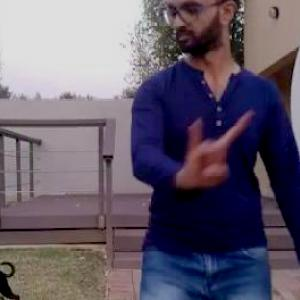takeoff-hand: (173, 104, 259, 198)
